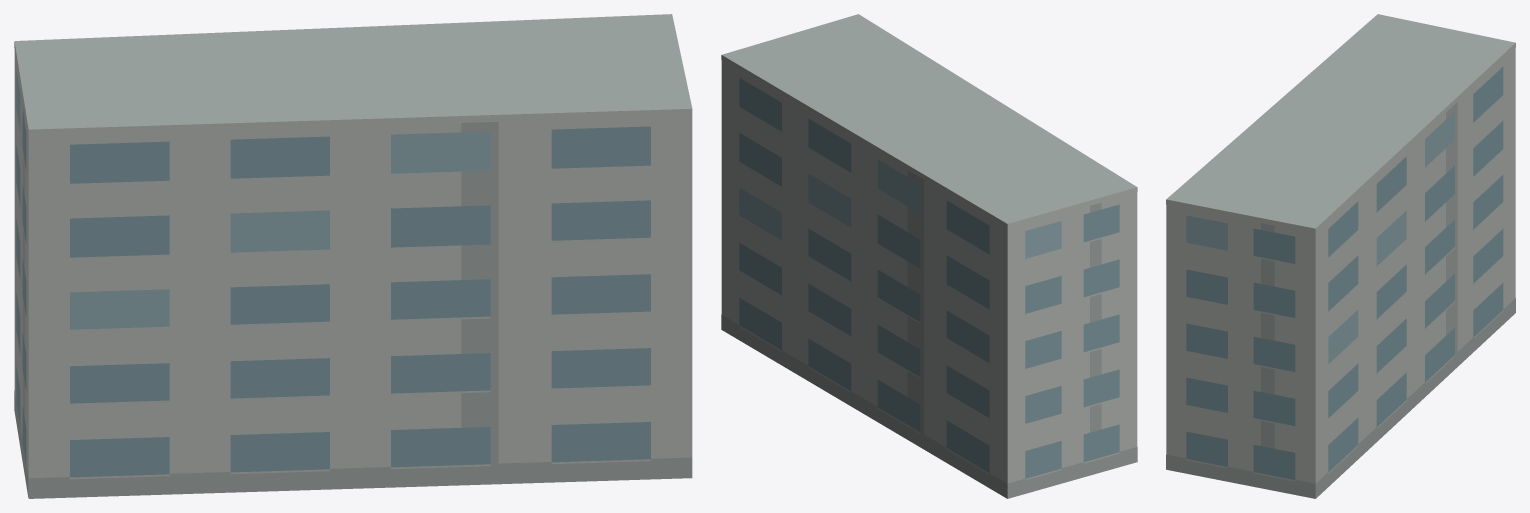
The model's file is survey-upis-32897707.glb.
3 views of the same model, side by side, from view 1: azimuth 30°, elevation 25°; view 2: azimuth 150°, elevation 25°; view 3: azimuth 270°, elevation 25° (orthographic). The views are drawn at different scales.
Parts seen in each view (by area): view 1: survey-upis-32897707.tmp; view 2: survey-upis-32897707.tmp; view 3: survey-upis-32897707.tmp.
Part boxes in pixels (bbox=[...]): survey-upis-32897707.tmp: bbox=[14, 14, 692, 498]; survey-upis-32897707.tmp: bbox=[721, 14, 1137, 498]; survey-upis-32897707.tmp: bbox=[1166, 14, 1515, 498].
Bounding box in the file's own units: 22.15 × 13 × 15.25.
